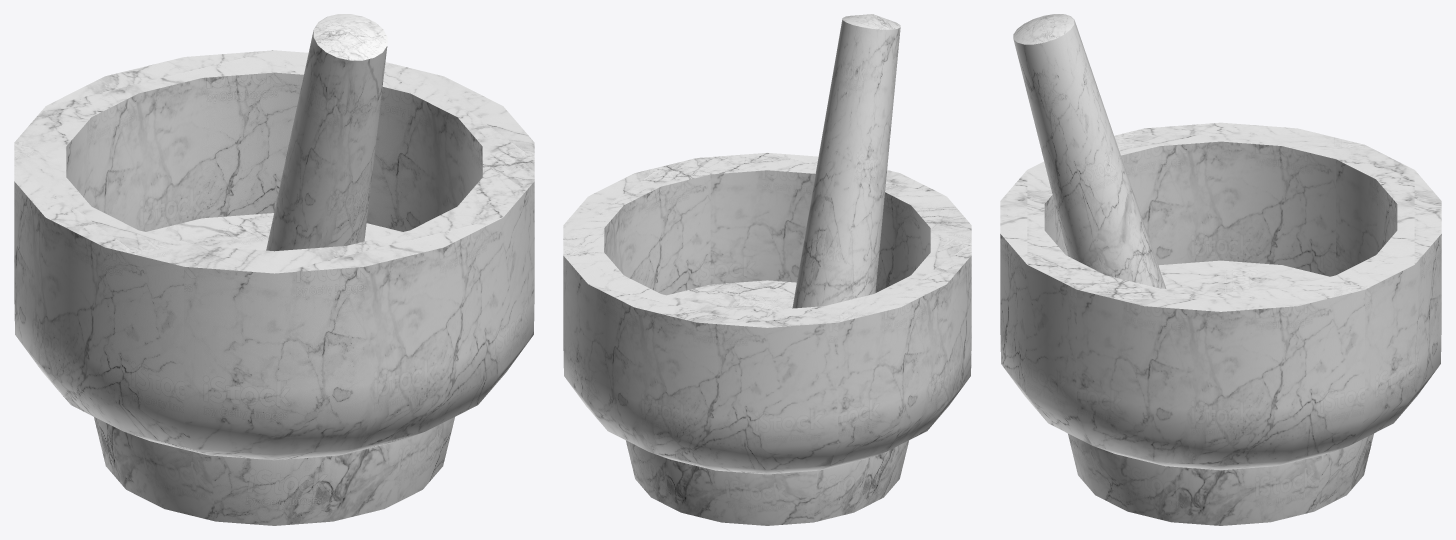
3 views of the same model, side by side, from view 1: azimuth 30°, elevation 25°; view 2: azimuth 150°, elevation 25°; view 3: azimuth 270°, elevation 25° (orthographic). The views are drawn at different scales.
Visible parts, largest first — view 1: Mortar, Pestle; view 2: Mortar, Pestle; view 3: Mortar, Pestle.
Boxes of the visible parts, <box> form: Mortar: <box>14,50,534,525</box>; Pestle: <box>266,14,387,251</box>; Mortar: <box>563,152,971,525</box>; Pestle: <box>792,14,900,308</box>; Mortar: <box>1000,122,1441,525</box>; Pestle: <box>1013,14,1166,288</box>.
Bounding box in the file's own units: 20 × 21.29 × 19.7.
Materials: 1 (1 with a texture image).
